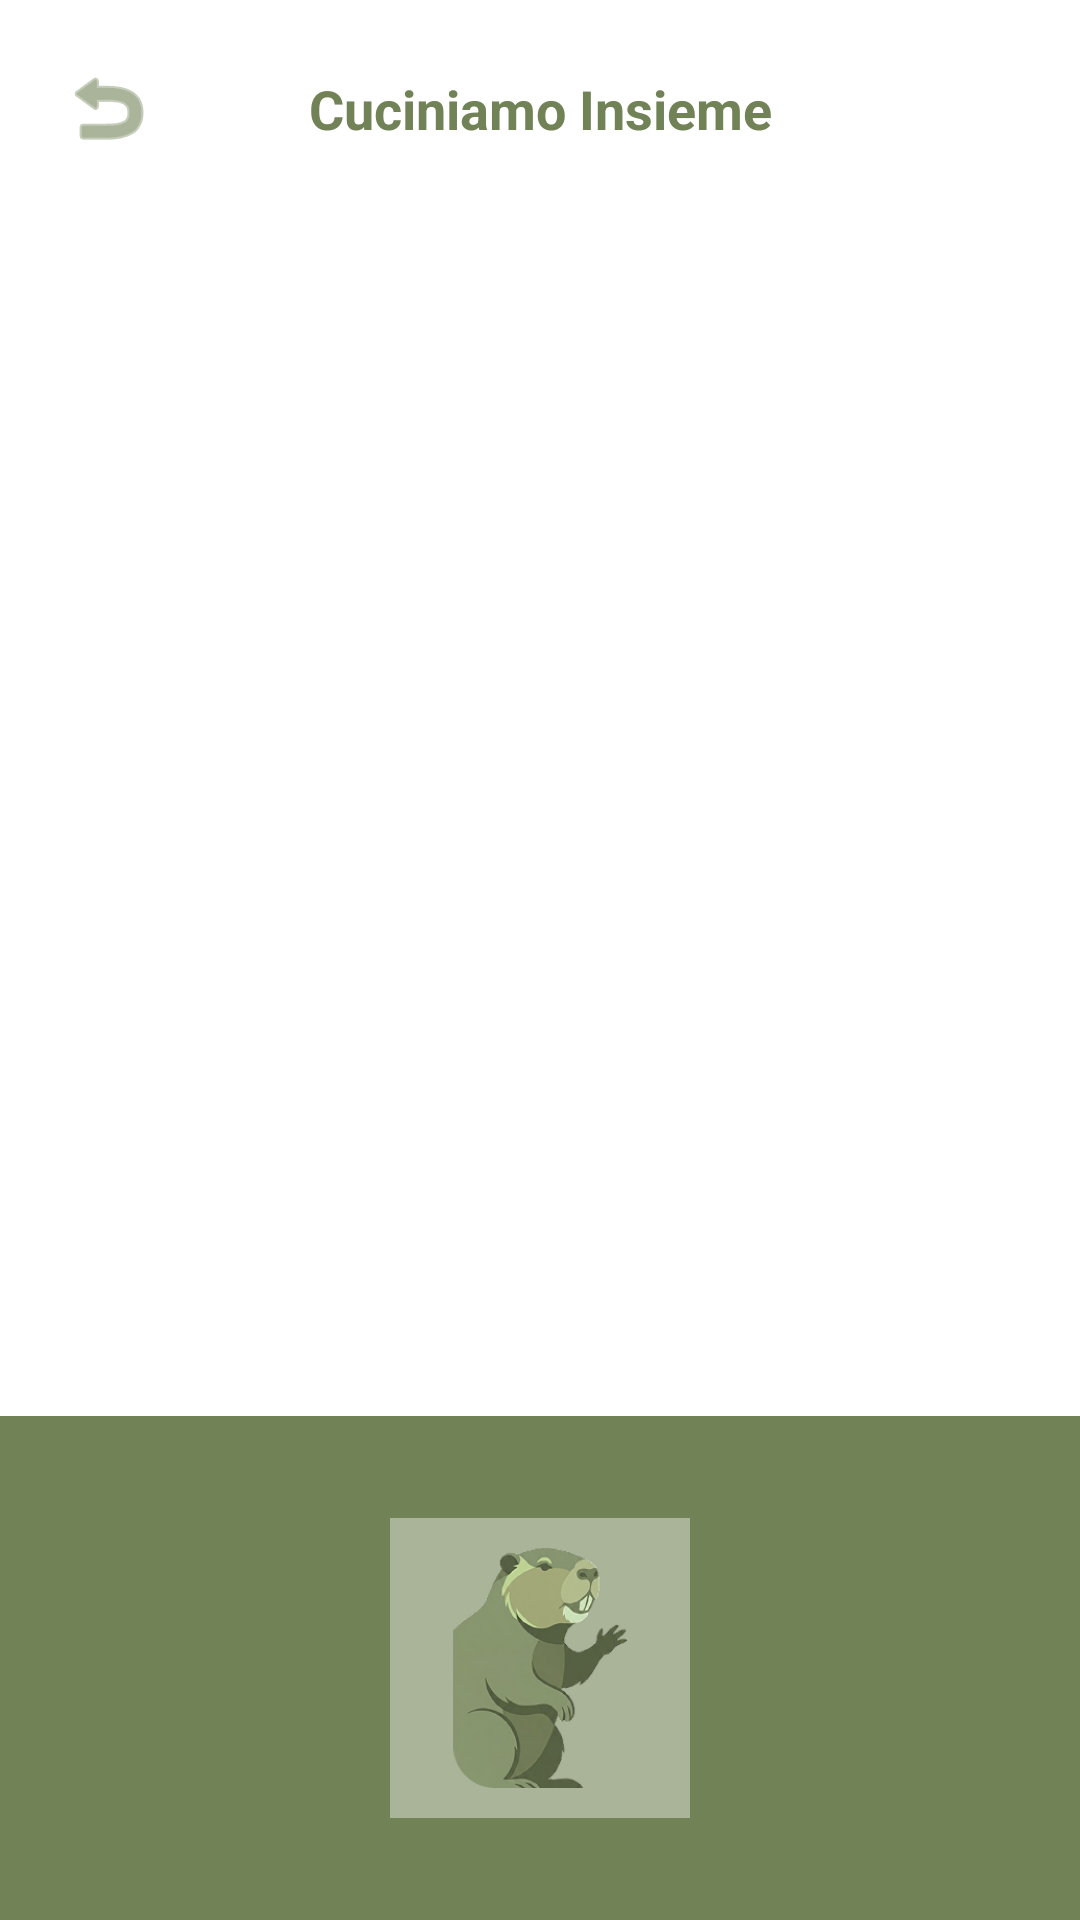

Locate icon controls on the screen. Image size 1080×1920, boxes as (x1, y1, x2, y2).
nutria: (453, 1548, 627, 1788)
revert: (75, 77, 144, 140)
